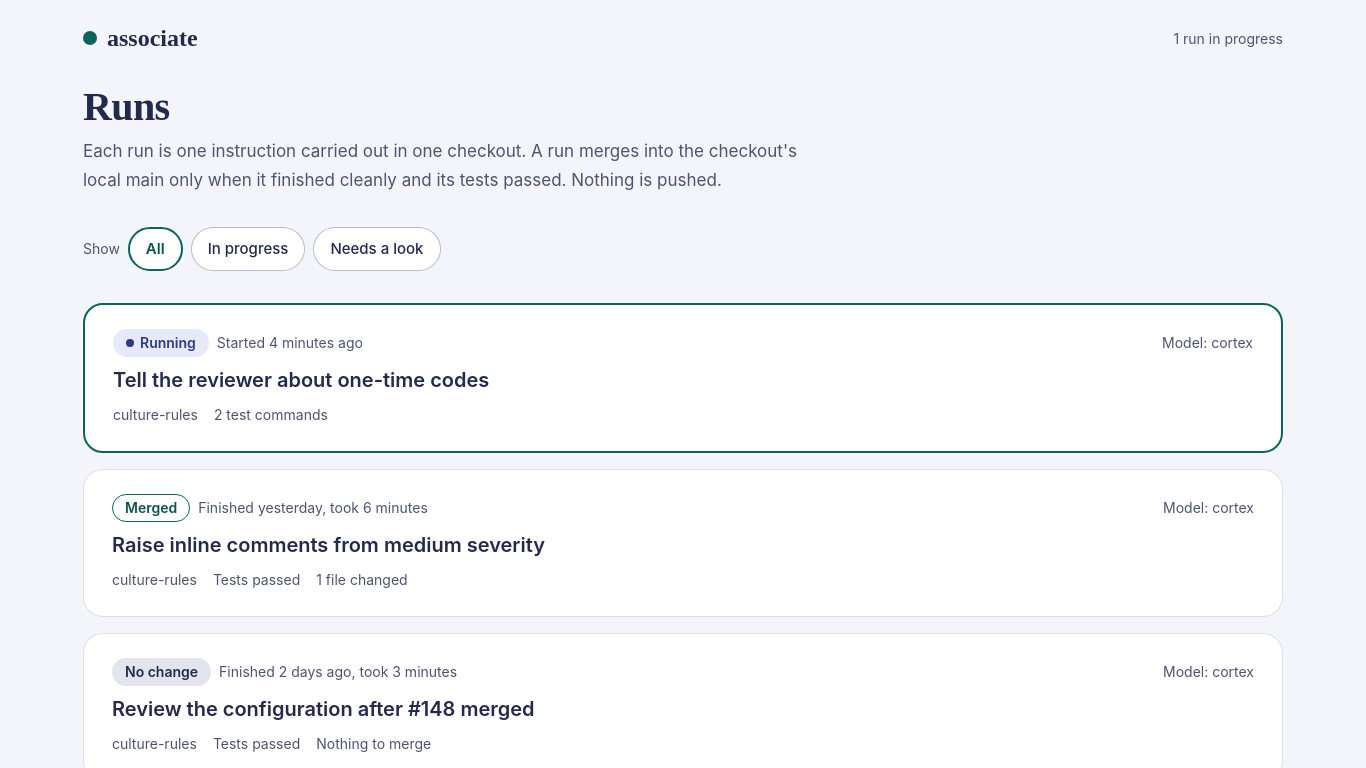
Test case: the runs list › filters to the runs in progress and to the runs that need a look
Click the button "In progress" at (248, 249), box [191,227,305,271]
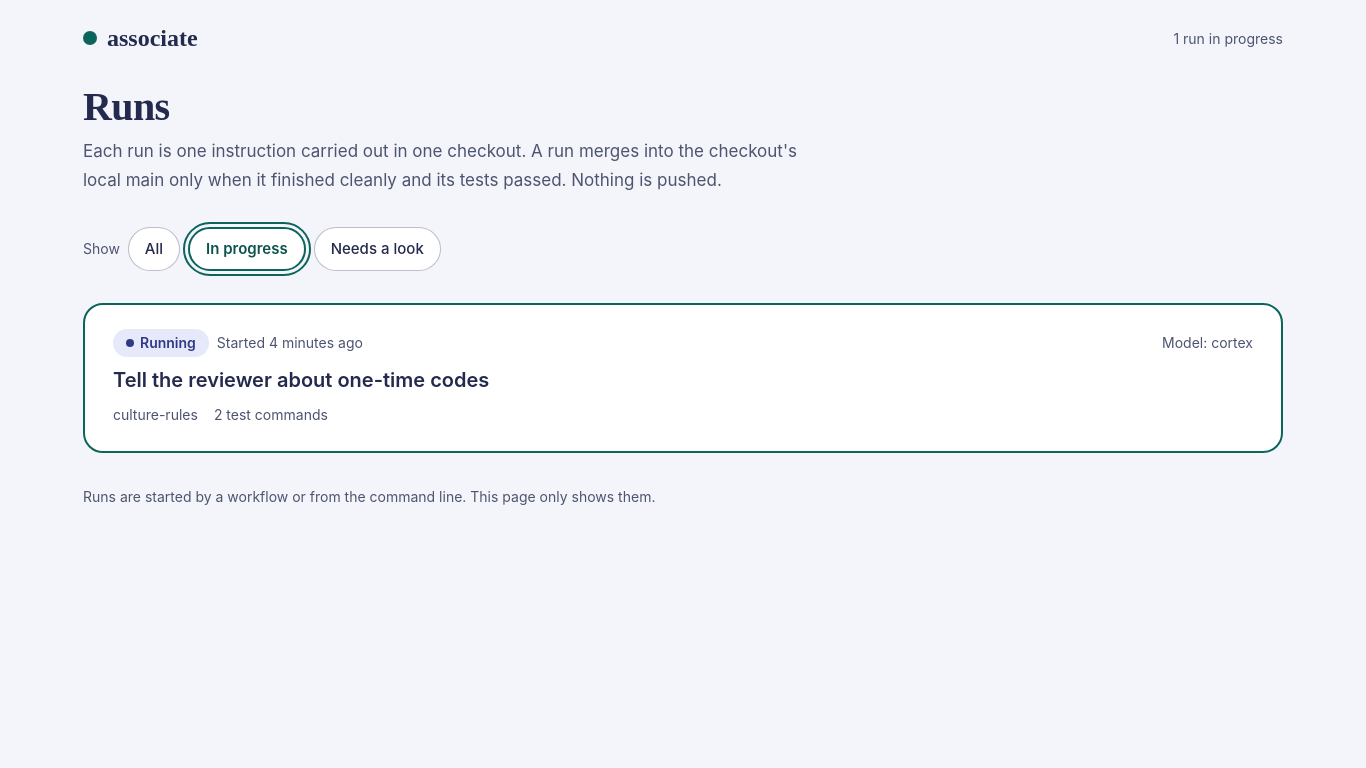
Expected: the text "Running" is shown, [113,329,209,357]
Expected: the number of list items is 1, [83,303,1283,453]
Click the button "Needs a look" at (377, 249), box [314,227,441,271]
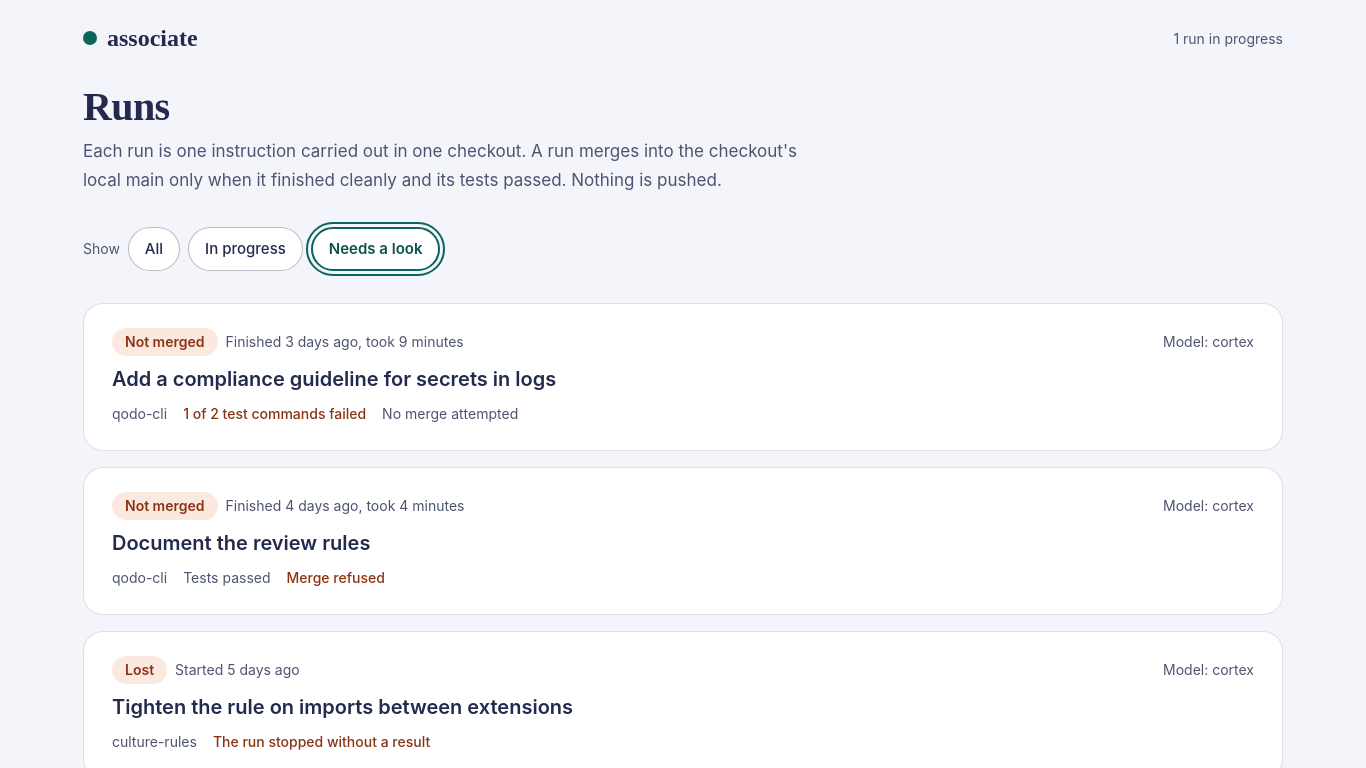
Click the button "All" at (154, 249), box [128,227,180,271]
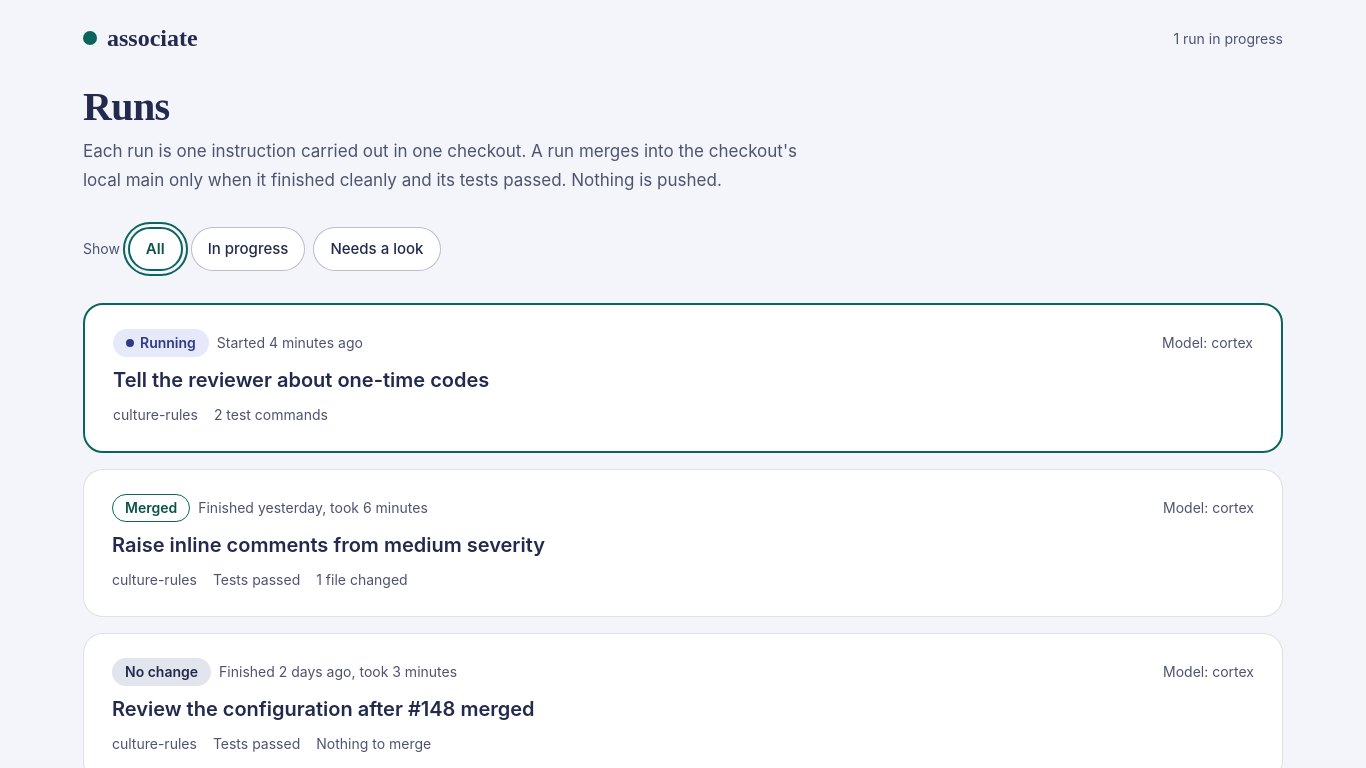
Expected: the number of list items is 7
